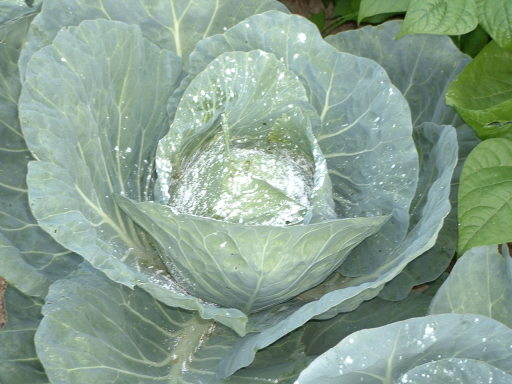cabbage: (0, 0, 477, 383)
